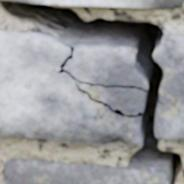brick: (4, 158, 169, 183), (3, 0, 183, 8)
broken_brick: (0, 30, 147, 145), (154, 34, 183, 140), (77, 81, 146, 114)
crack: (0, 0, 183, 183)
